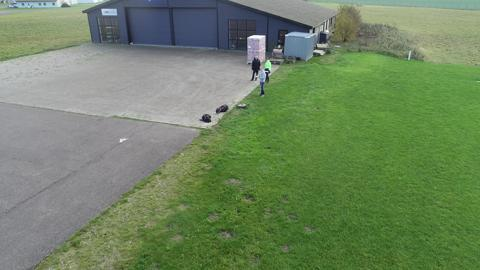RockwoolPallet: (247, 34, 266, 64)
